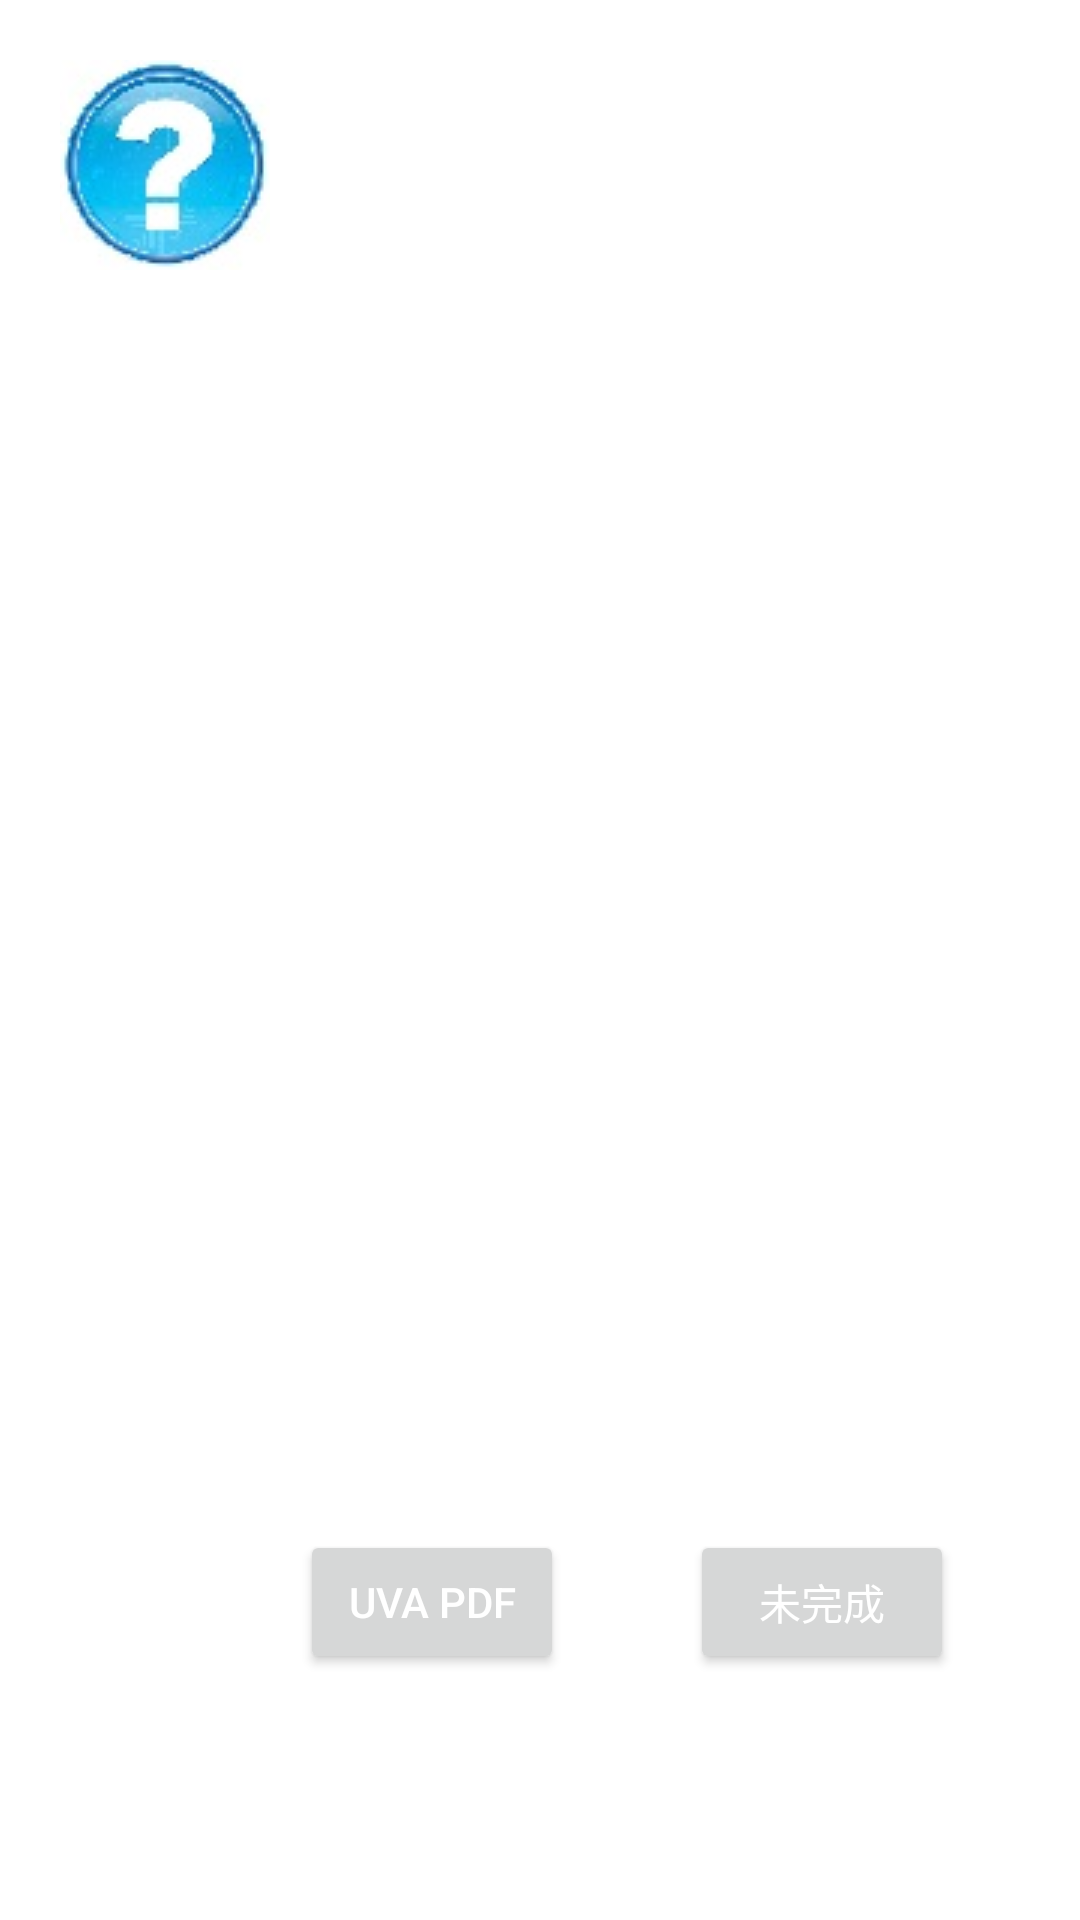

Named icons in this screenshot (1080px x 1920px) and their centers, (x,y):
question mark: (164,164)
